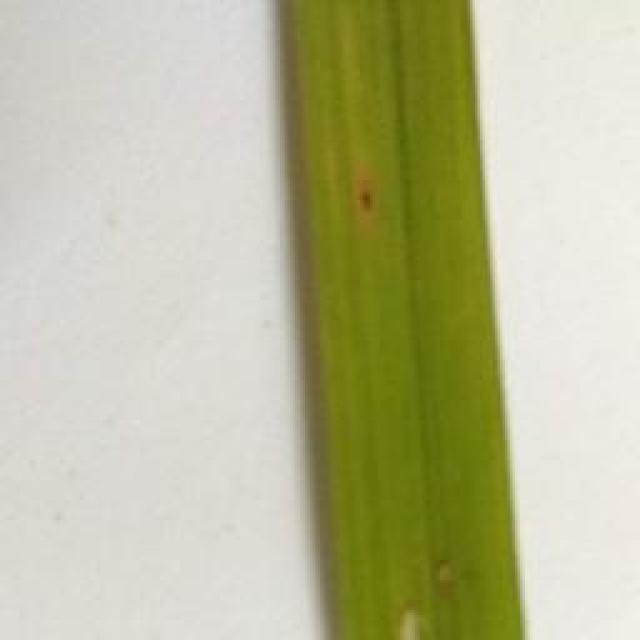Bacterial_Blight: (386, 591, 434, 640), (425, 553, 465, 601)
Brown_Spot: (335, 174, 390, 224)
